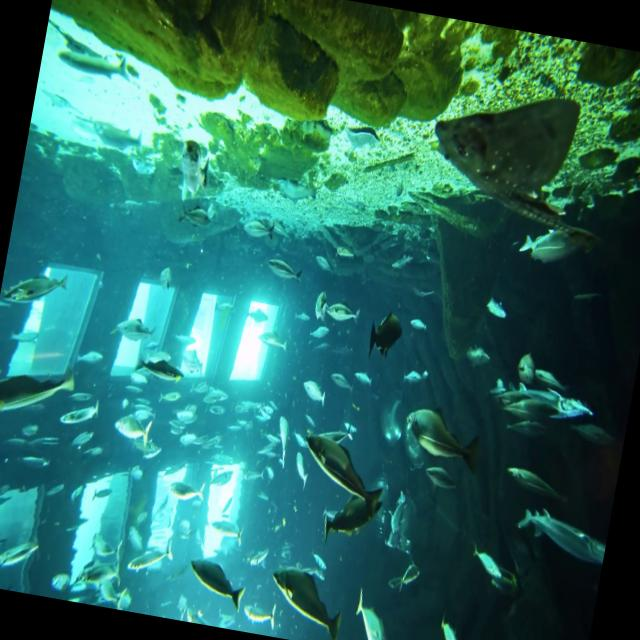fish: (296, 432, 392, 516), (264, 562, 348, 640), (488, 371, 596, 429), (512, 503, 610, 565), (398, 406, 481, 474), (0, 350, 75, 424), (517, 212, 593, 275), (183, 551, 249, 612), (345, 581, 400, 640), (3, 264, 70, 311), (364, 306, 408, 362), (134, 350, 186, 384), (112, 406, 154, 445)
